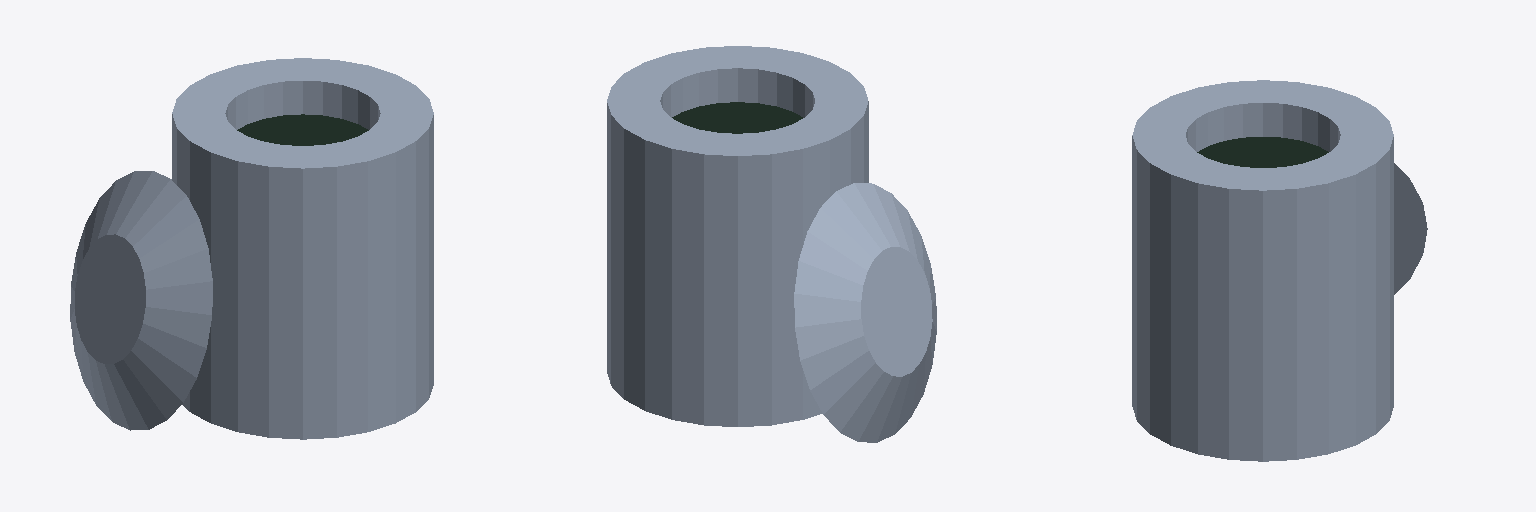
Rendered from Bin2.obj.
3 renders of one model, left to right at view 1: azimuth 30°, elevation 25°; view 2: azimuth 150°, elevation 25°; view 3: azimuth 270°, elevation 25°, orthographic.
Visible parts, largest first — view 1: mergedBlocks; view 2: mergedBlocks; view 3: mergedBlocks.
Part boxes in pixels (bbox=[...]): mergedBlocks: bbox=[70, 58, 433, 439]; mergedBlocks: bbox=[607, 46, 936, 442]; mergedBlocks: bbox=[1132, 80, 1427, 461].
Bounding box in the file's own units: 0.9386 × 0.8229 × 0.79.